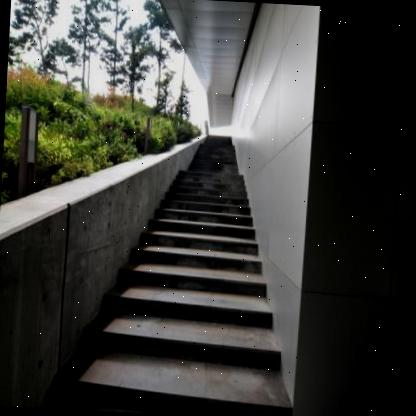stair: (74, 120, 304, 416)
